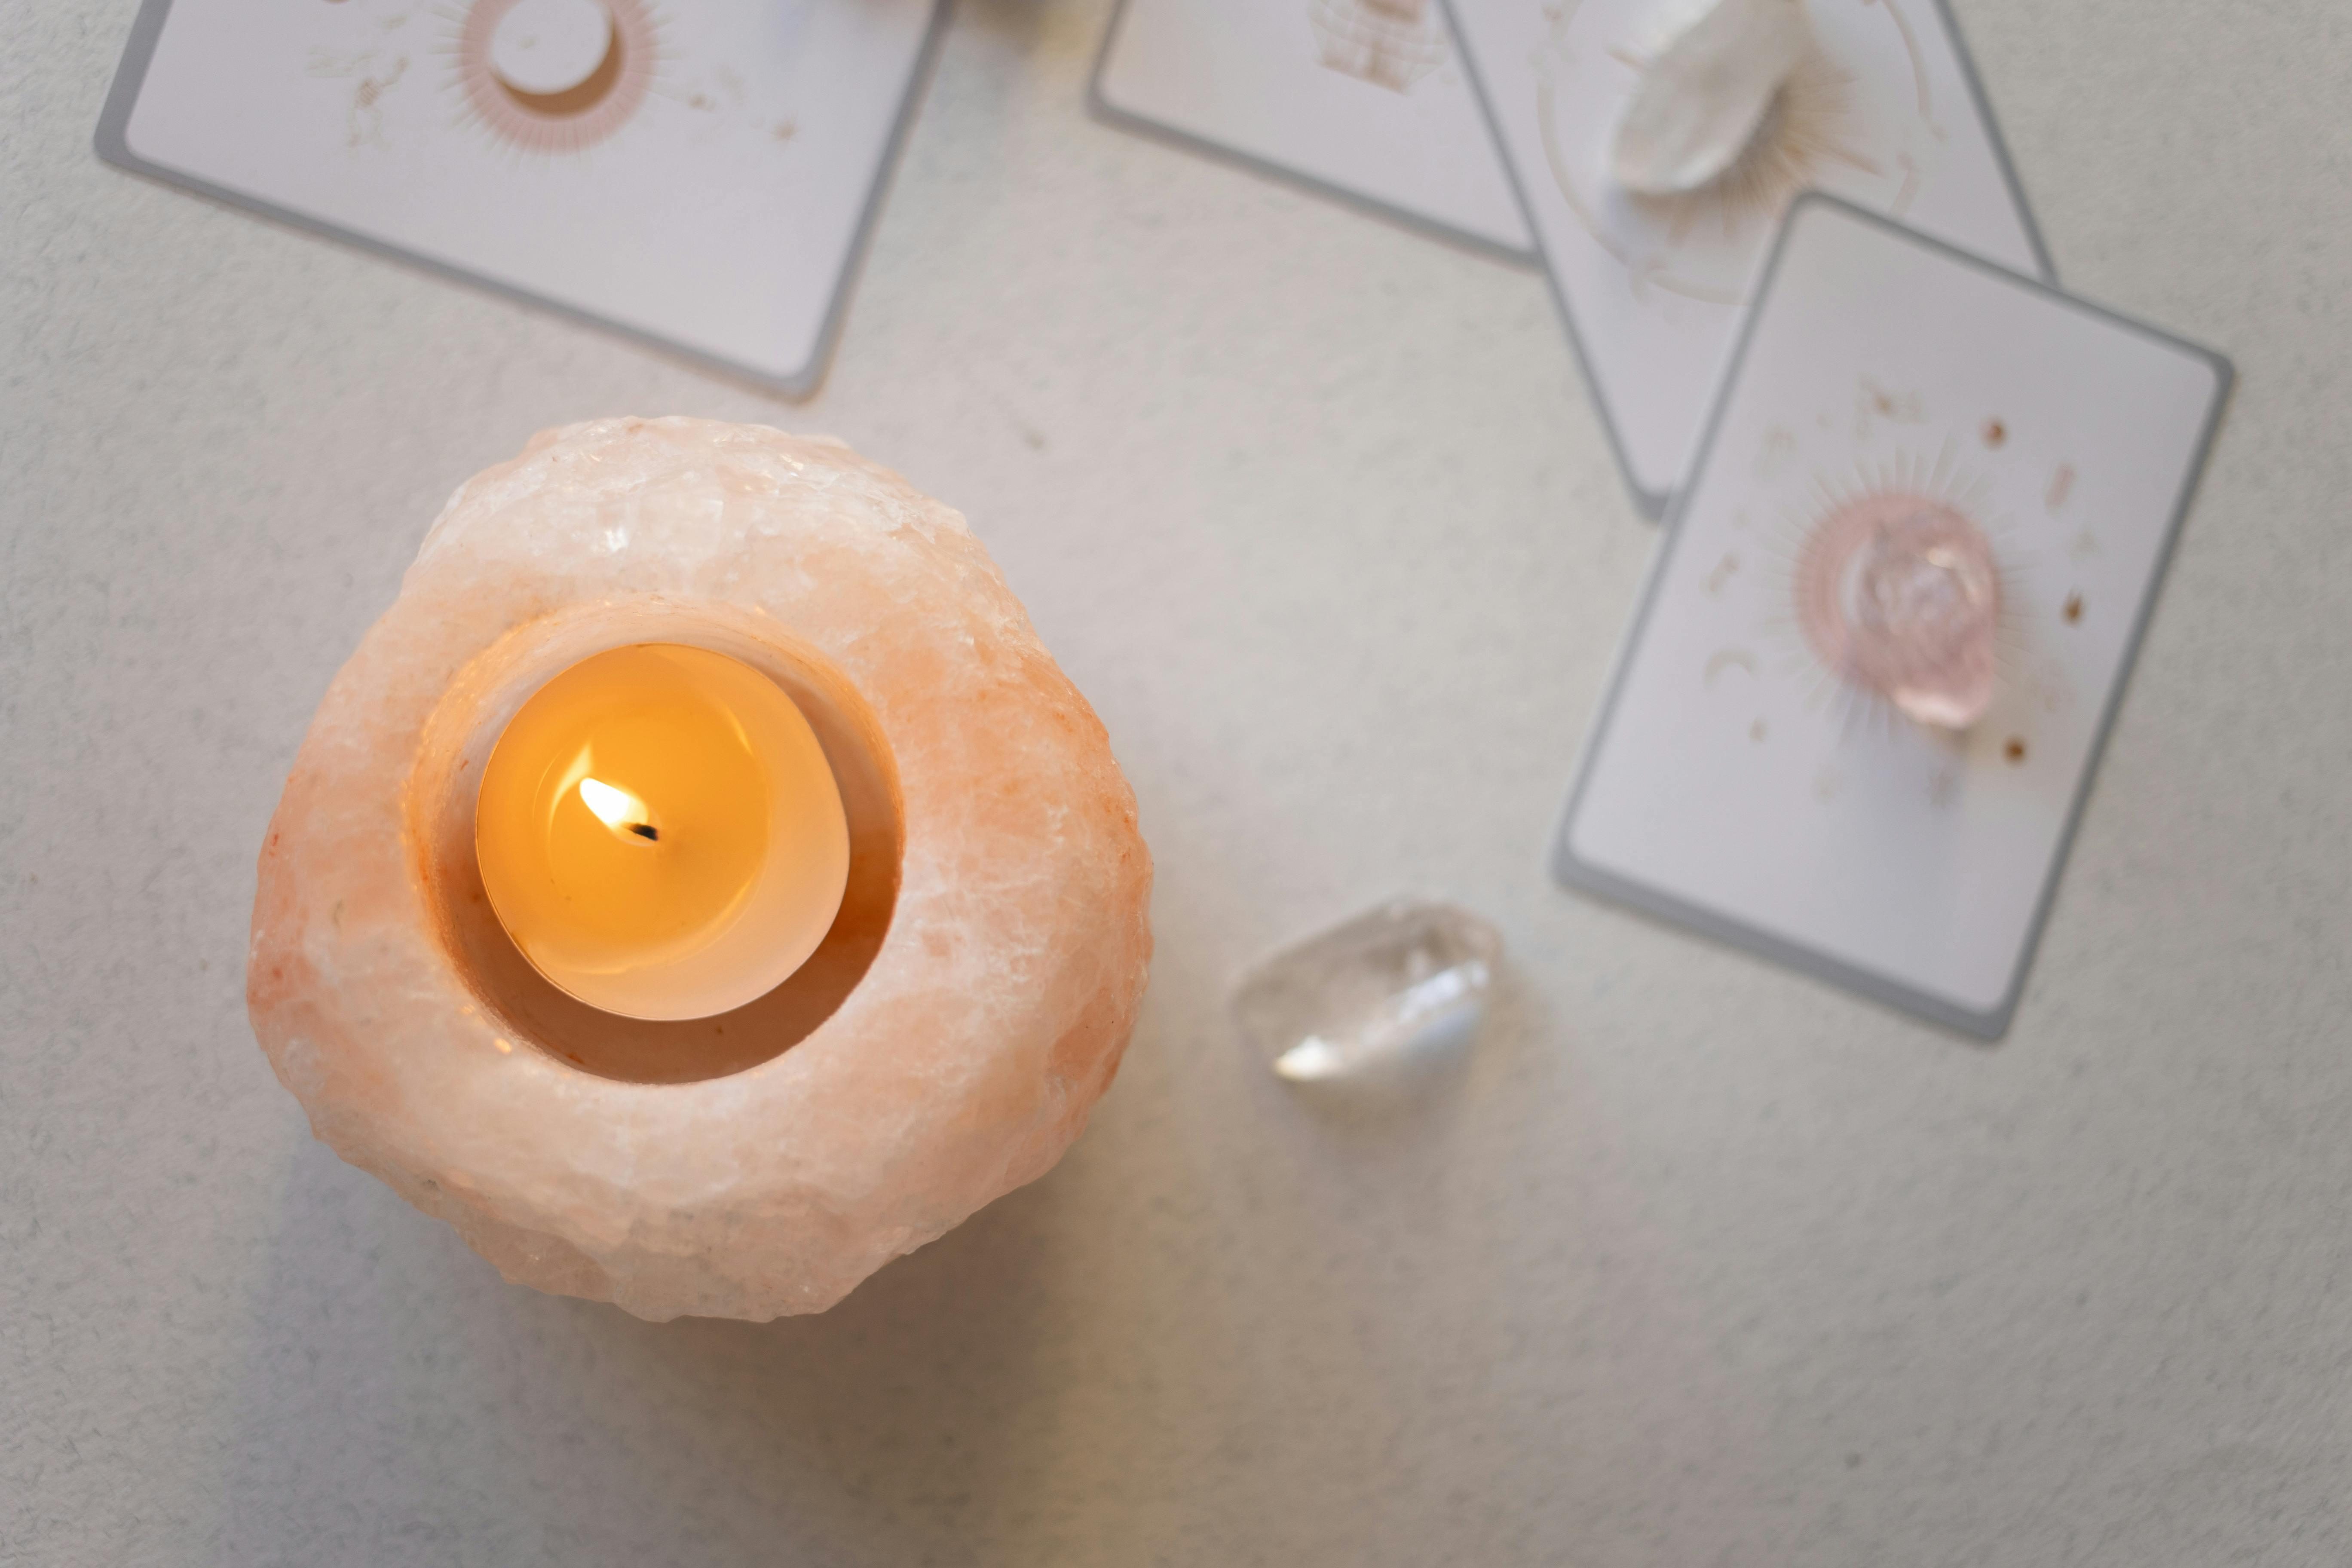Fire: (563, 752, 688, 873)
